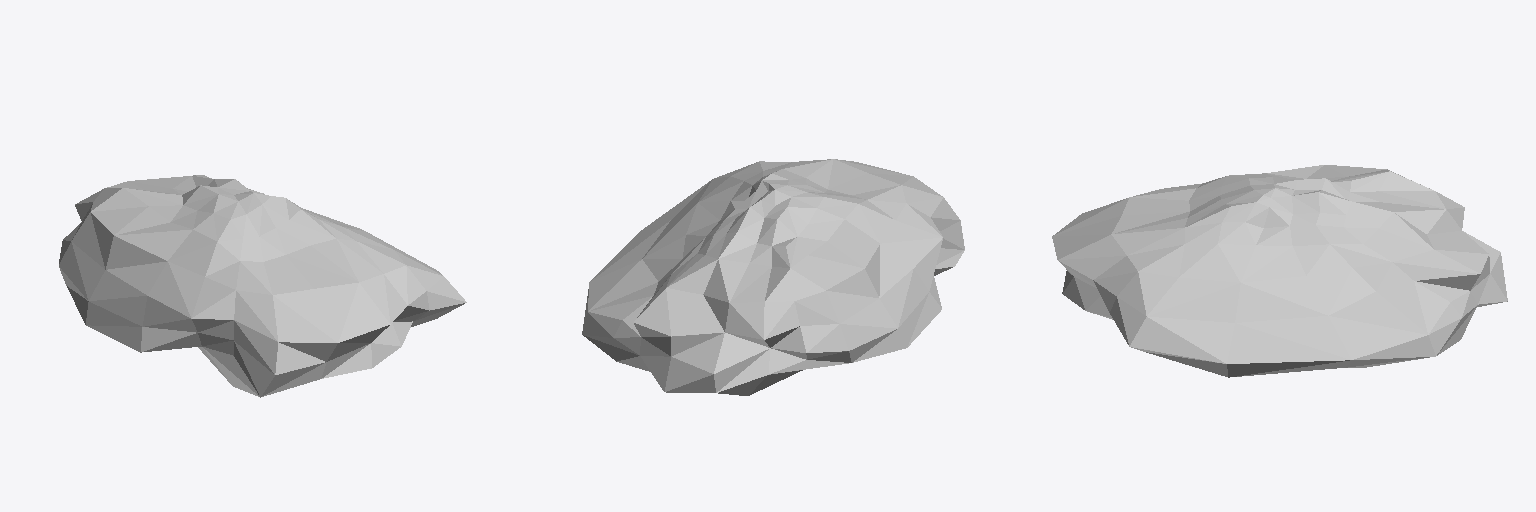
Rendered from rock14.obj.
The picture shows the model from 3 angles: view 1: azimuth 30°, elevation 25°; view 2: azimuth 150°, elevation 25°; view 3: azimuth 270°, elevation 25°; orthographic projection.
Parts seen in each view (by area): view 1: Mesh; view 2: Mesh; view 3: Mesh.
Part boxes in pixels (x1,y1,x2,y2): Mesh: (59, 175, 466, 397); Mesh: (582, 159, 964, 395); Mesh: (1052, 165, 1507, 377).
Bounding box in the file's own units: 8.96 × 3.64 × 11.43.